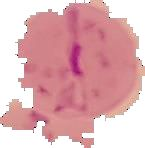parasitized: (64, 3, 119, 94)
